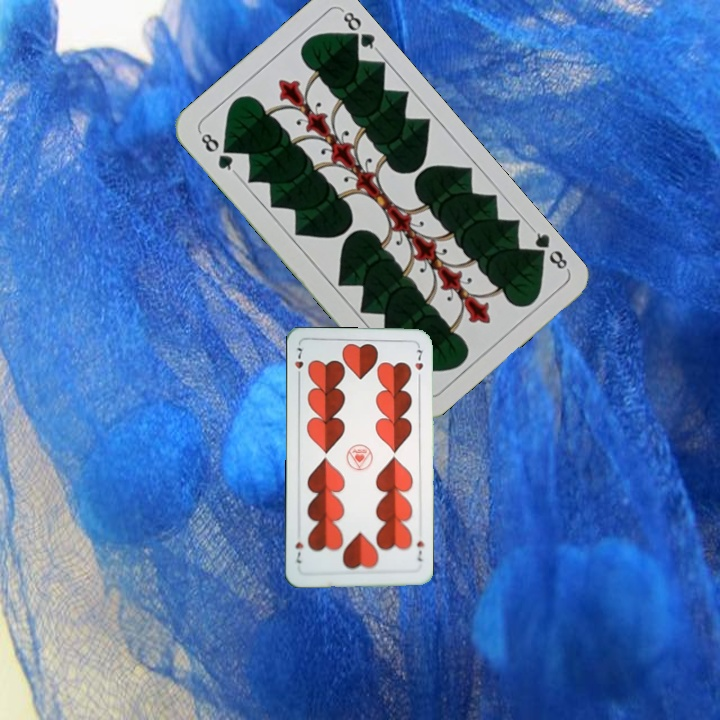G8: (526, 224, 572, 273), (195, 127, 239, 176)
H7: (291, 343, 306, 383), (413, 537, 426, 563)
